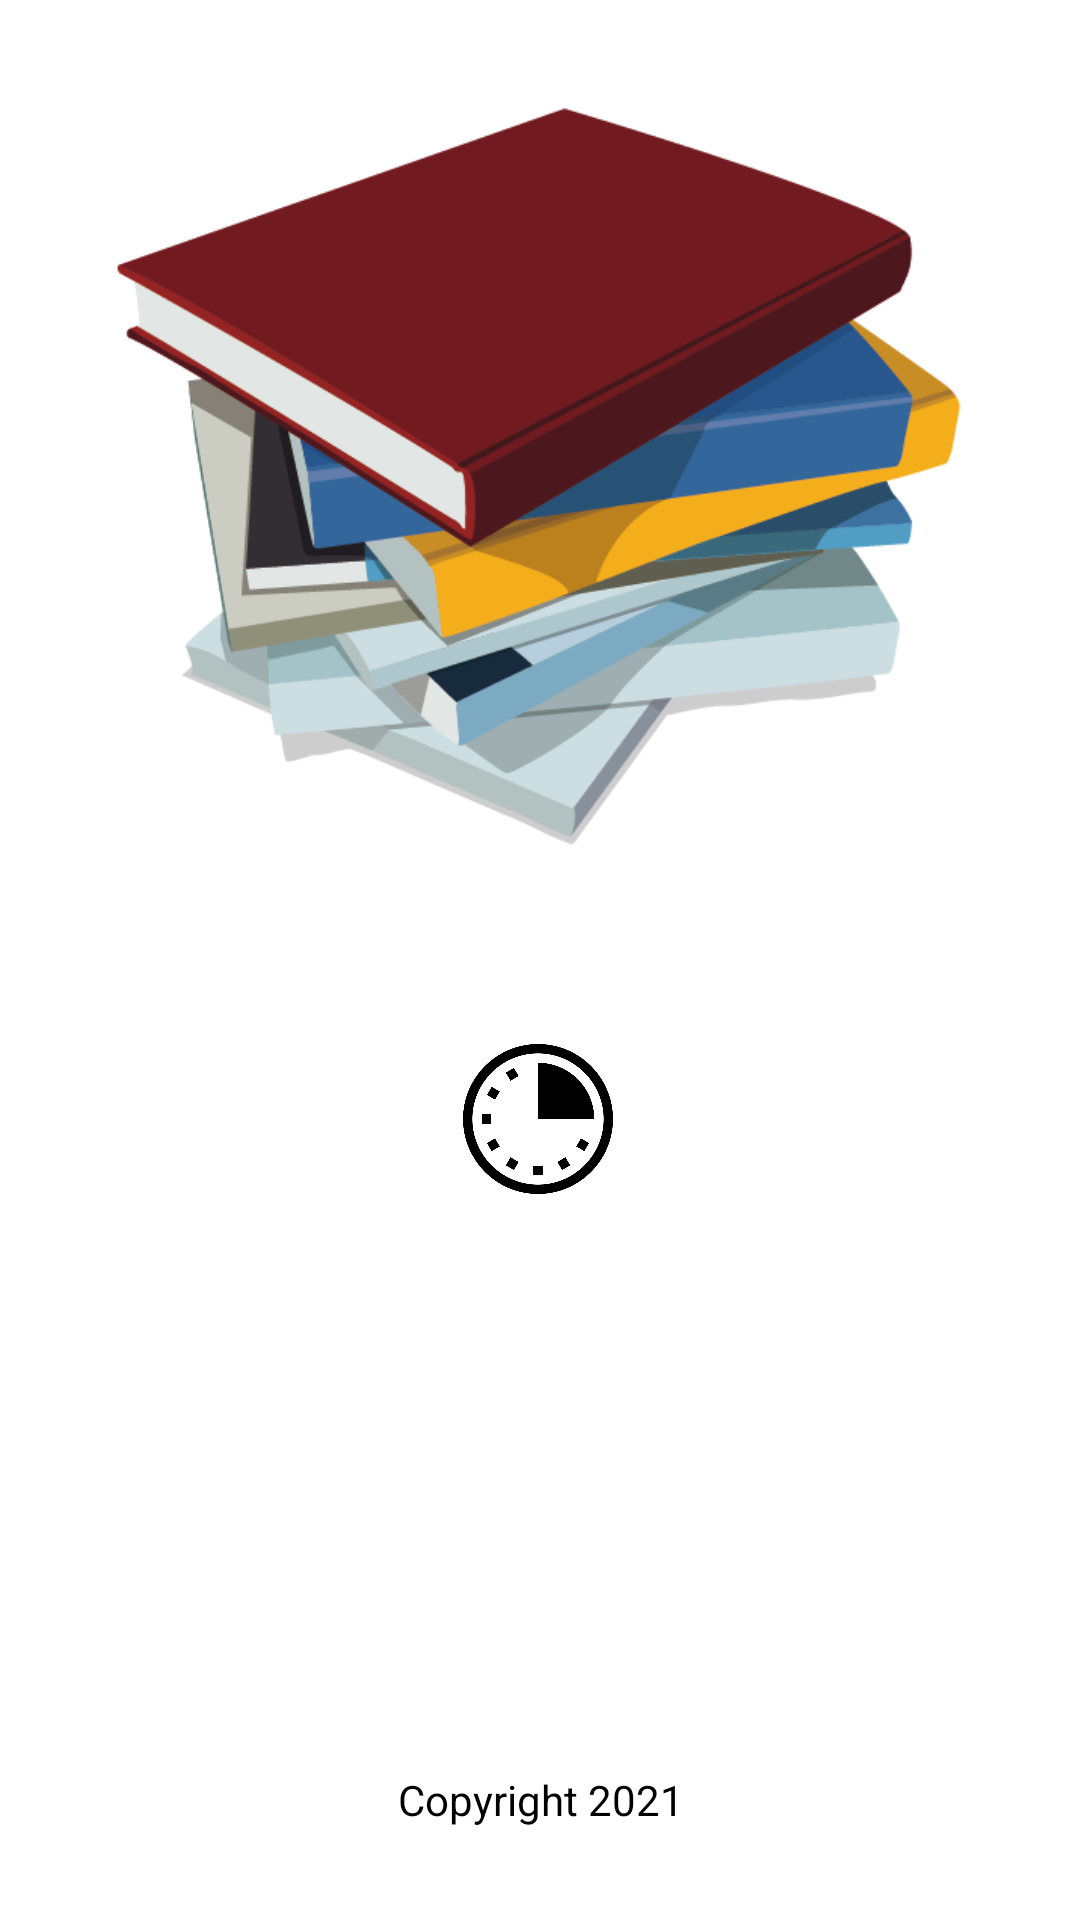

Screen size 1080 × 1920. Icon name, then its box in pixels as (x1, y1, x2, y2):
loader: (463, 1044, 613, 1194)
